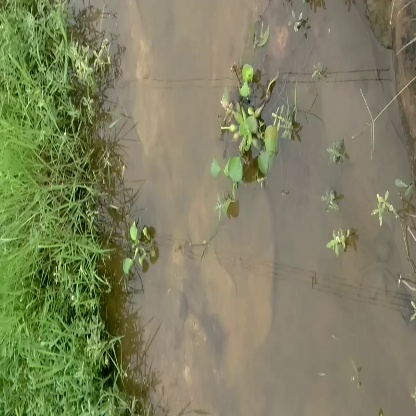leaf: (218, 107, 279, 190)
